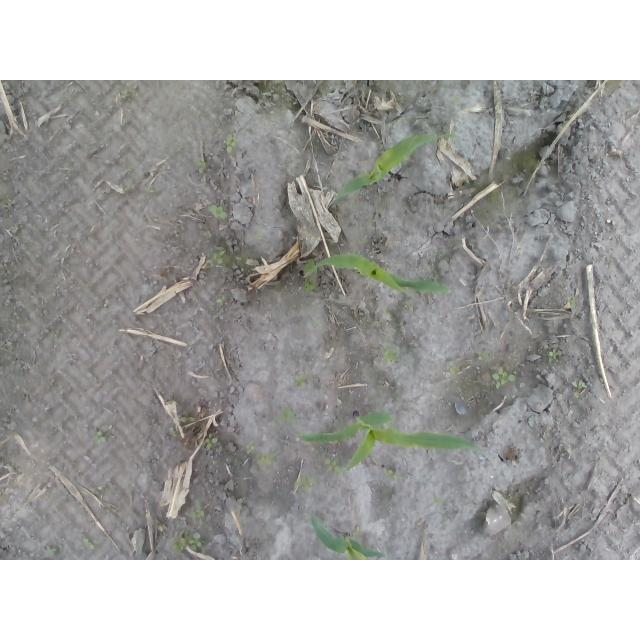Maize: (294, 412, 486, 473), (335, 132, 464, 202), (302, 255, 455, 298), (309, 517, 387, 560)
Weeds: (172, 529, 203, 555), (491, 368, 517, 391), (294, 473, 317, 492), (207, 249, 226, 267), (255, 451, 278, 465), (210, 204, 230, 218), (223, 134, 237, 154), (275, 411, 293, 426), (573, 380, 588, 397), (384, 348, 401, 362), (203, 434, 217, 451), (322, 459, 339, 473), (291, 376, 306, 389), (96, 429, 109, 444), (187, 509, 206, 519), (388, 468, 402, 480), (196, 157, 205, 175), (43, 547, 59, 557), (82, 537, 96, 548), (548, 347, 558, 361), (479, 351, 492, 361), (180, 416, 196, 424), (449, 365, 460, 376), (170, 427, 179, 439), (246, 442, 255, 451), (254, 232, 263, 240), (121, 92, 128, 101), (217, 298, 224, 306)
